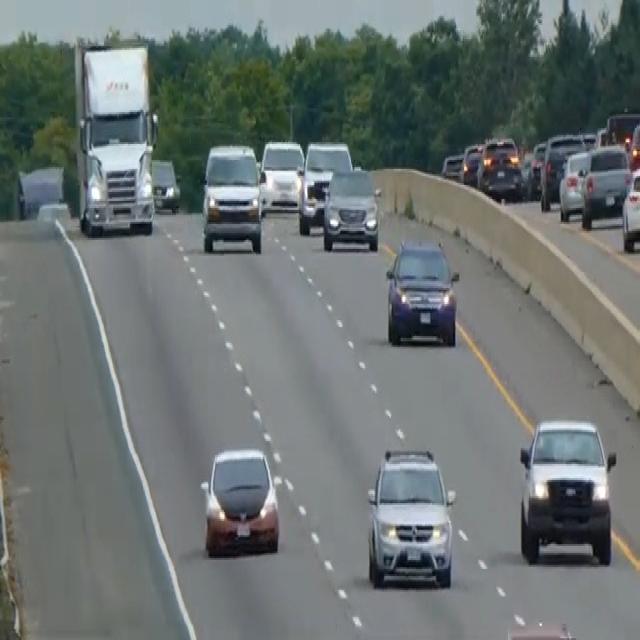car: (199, 444, 280, 556), (384, 236, 460, 346), (298, 138, 353, 234), (322, 165, 381, 251), (580, 142, 631, 228), (539, 132, 586, 210), (258, 137, 304, 211), (477, 135, 523, 201), (558, 147, 591, 220), (150, 156, 180, 214), (621, 162, 639, 252), (502, 620, 583, 638), (604, 109, 639, 148), (527, 137, 547, 195), (460, 140, 483, 185), (440, 151, 464, 181), (628, 117, 639, 171)
jeep: (517, 414, 617, 566), (365, 442, 456, 588)
lorry: (72, 35, 159, 236)
minivan: (200, 140, 263, 252)
